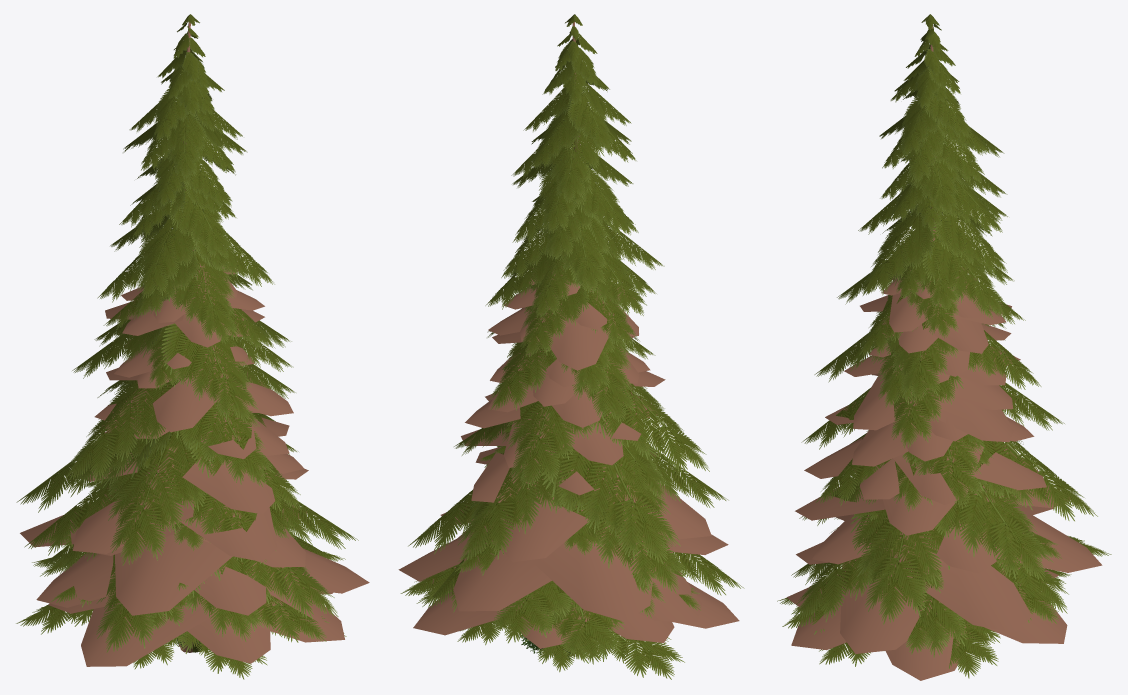
File: woodlands.glb
3 renders of one model, left to right at view 1: azimuth 30°, elevation 25°; view 2: azimuth 150°, elevation 25°; view 3: azimuth 270°, elevation 25°, orthographic.
Parts seen in each view (by area): view 1: wl_tree02, wl_tree01, wl_tree03; view 2: wl_tree02, wl_tree01, wl_tree03; view 3: wl_tree02, wl_tree01, wl_tree03.
Boxes of the visible parts, x1,y1,x2,y2 form: wl_tree02: (16,14,358,652); wl_tree01: (20,249,369,666); wl_tree03: (16,387,346,679); wl_tree02: (408,14,744,622); wl_tree01: (398,266,739,648); wl_tree03: (400,407,700,679); wl_tree02: (791,14,1097,657); wl_tree01: (786,230,1102,680); wl_tree03: (777,434,1111,678).
Bounding box in the file's own units: 5.34 × 11.29 × 5.48.
3 materials, 2 textured.
